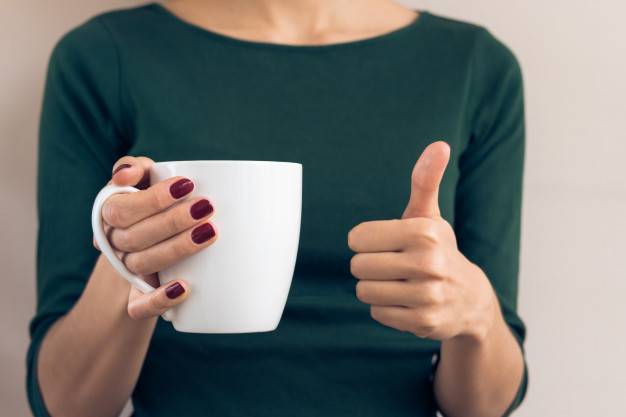thumbsup: (346, 140, 452, 336)
